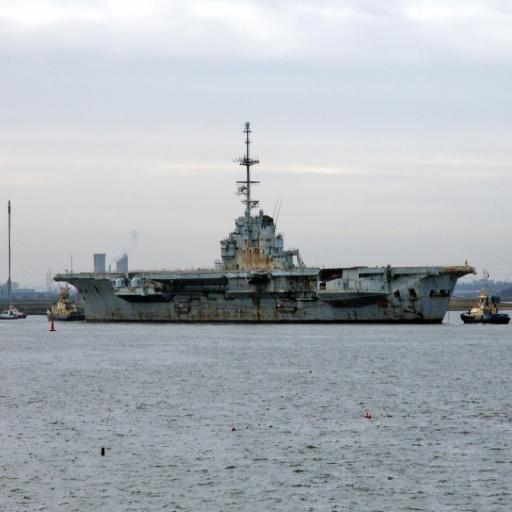Portanaves: (54, 117, 481, 326)
